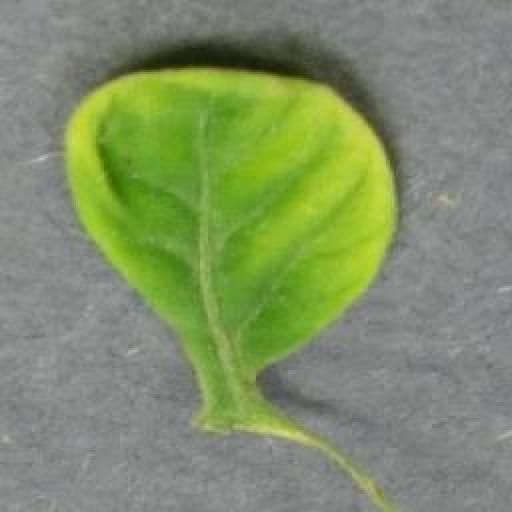disease_tomato: (64, 67, 399, 364)
